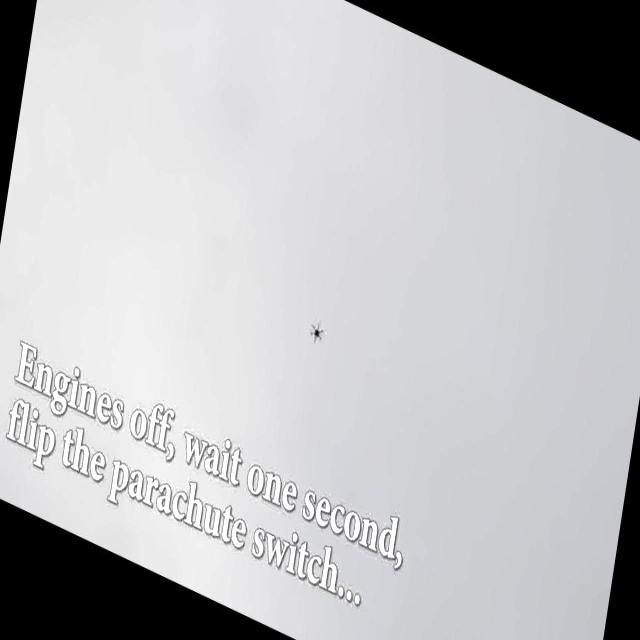drone: (307, 312, 328, 350)
